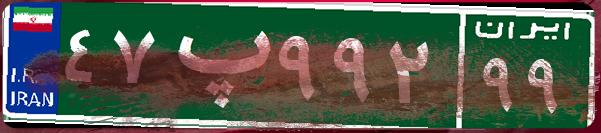2: (385, 28, 445, 110)
4: (57, 26, 110, 107)
7: (110, 28, 158, 105)
9: (273, 28, 330, 110), (330, 28, 385, 110), (475, 38, 525, 113), (525, 38, 570, 115)
پ: (158, 15, 273, 115)
